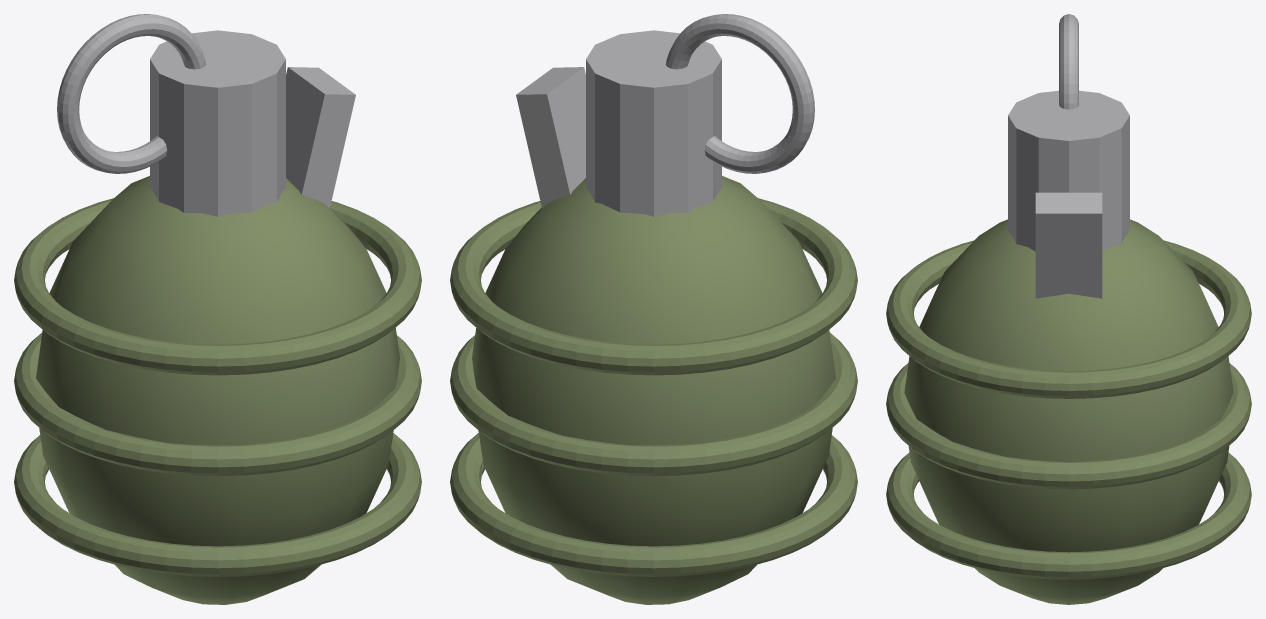
File: grenade_world.glb
3 views of the same model, side by side, from view 1: azimuth 30°, elevation 25°; view 2: azimuth 150°, elevation 25°; view 3: azimuth 270°, elevation 25° (orthographic). The views are drawn at different scales.
Visible parts, largest first — view 1: Sphere, Cylinder, Torus.002, Torus, Torus.001, Torus.003, Cube; view 2: Sphere, Cylinder, Torus.002, Torus, Torus.001, Torus.003, Cube; view 3: Sphere, Torus.002, Cylinder, Torus, Torus.001, Cube, Torus.003.
Boxes of the visible parts, <box> form: Sphere: <box>36,176,399,604</box>; Cylinder: <box>150,30,285,216</box>; Torus.002: <box>14,198,421,375</box>; Torus: <box>14,433,421,576</box>; Torus.001: <box>14,332,421,476</box>; Torus.003: <box>57,14,206,173</box>; Cube: <box>286,67,355,208</box>; Sphere: <box>472,176,835,604</box>; Cylinder: <box>586,30,721,216</box>; Torus.002: <box>450,198,857,375</box>; Torus: <box>450,433,857,576</box>; Torus.001: <box>450,332,857,476</box>; Torus.003: <box>665,14,814,173</box>; Cube: <box>516,67,585,208</box>; Sphere: <box>904,219,1233,604</box>; Torus.002: <box>886,240,1251,398</box>; Cylinder: <box>1008,90,1129,251</box>; Torus: <box>886,452,1251,579</box>; Torus.001: <box>886,363,1251,489</box>; Cube: <box>1035,192,1102,298</box>; Torus.003: <box>1059,14,1078,109</box>.
Size of the model in its own units: 0.066 by 0.1063 by 0.066.
